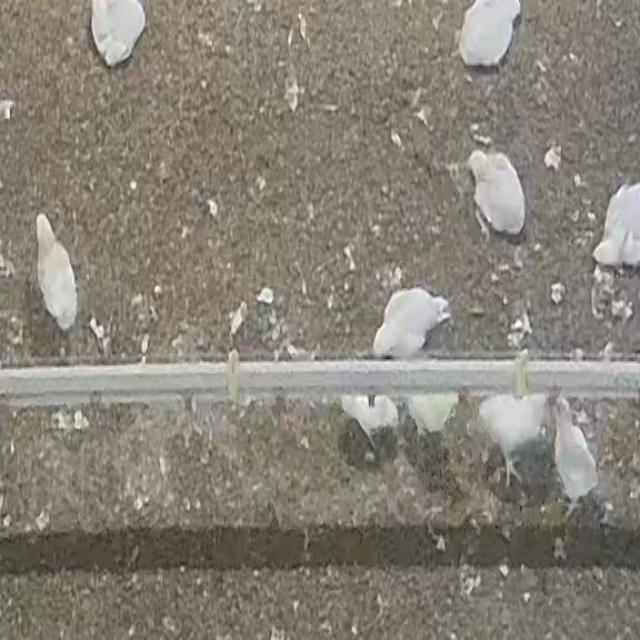chicken: (465, 144, 529, 246), (32, 208, 82, 334), (371, 284, 453, 359)
